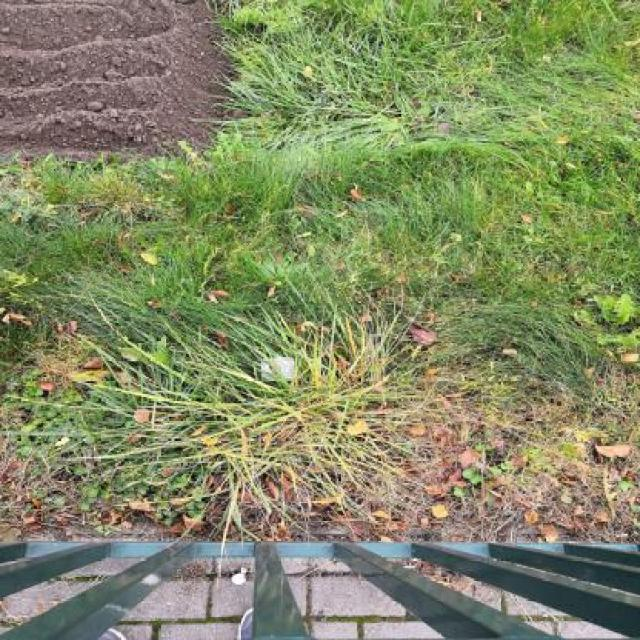Garbage: (259, 355, 297, 382)
